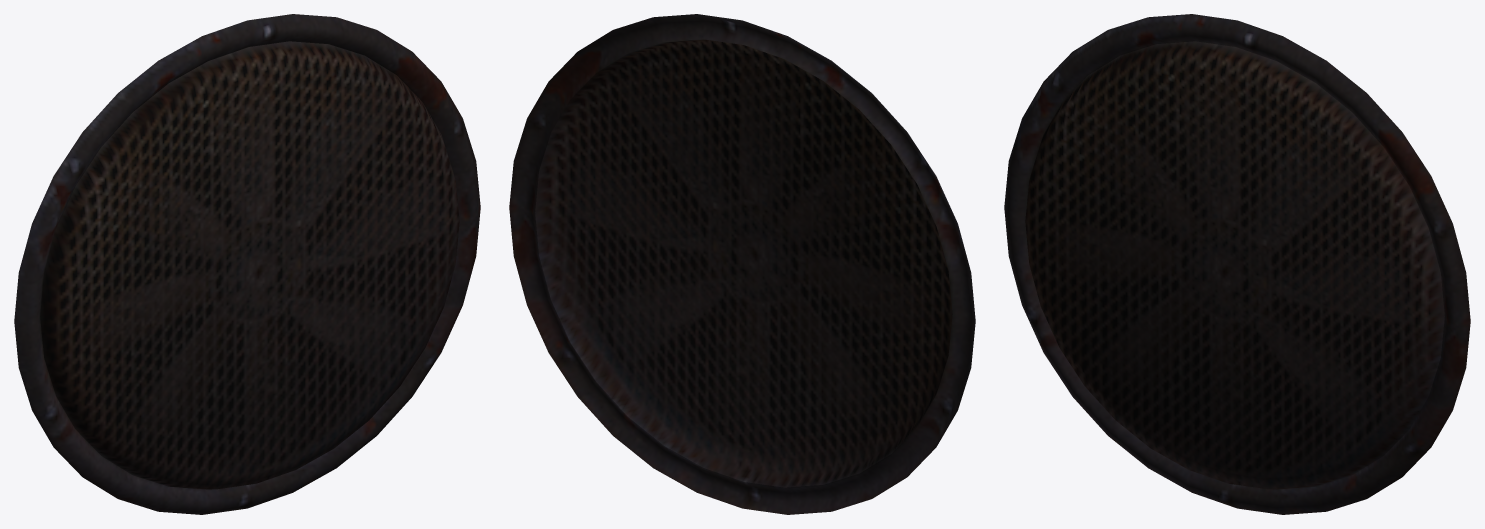
The model's file is vent_4.fbx.
3 renders of one model, left to right at view 1: azimuth 30°, elevation 25°; view 2: azimuth 150°, elevation 25°; view 3: azimuth 330°, elevation 25°, orthographic.
Parts seen in each view (by area): view 1: vent_4; view 2: vent_4; view 3: vent_4.
Boxes of the visible parts, <box> form: vent_4: <box>14,14,480,514</box>; vent_4: <box>509,14,975,514</box>; vent_4: <box>1004,14,1470,514</box>.
Bounding box in the file's own units: 1 × 0.045 × 1.
